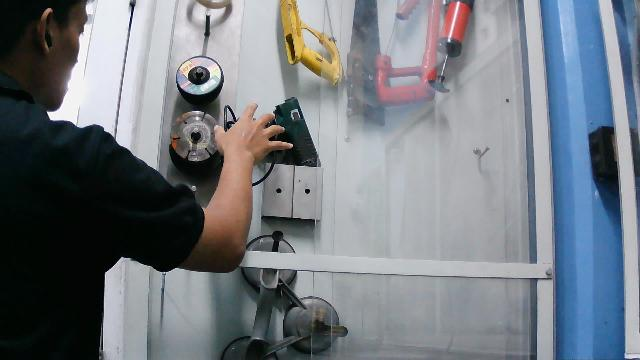gun_lem: (213, 92, 327, 175)
